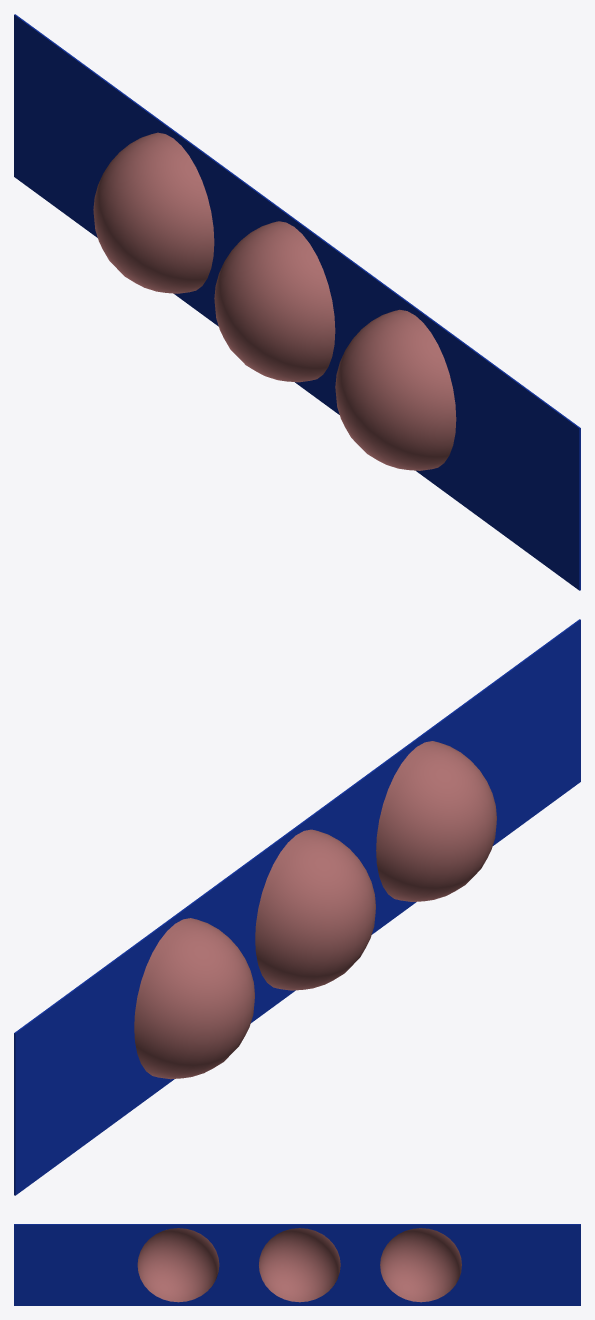
Rendered from 10X63 3nipples.FBX.
3 views of the same model, one above another, from view 1: azimuth 30°, elevation 25°; view 2: azimuth 150°, elevation 25°; view 3: azimuth 270°, elevation 25° (orthographic). The views are drawn at different scales.
Parts seen in each view (by area): view 1: Box036; view 2: Box036; view 3: Box036.
Boxes of the visible parts, bbox=[...] form: Box036: bbox=[14, 14, 580, 590]; Box036: bbox=[14, 619, 580, 1195]; Box036: bbox=[14, 1224, 580, 1305].
Bounding box in the file's own units: 4.57 × 10 × 63.19.
